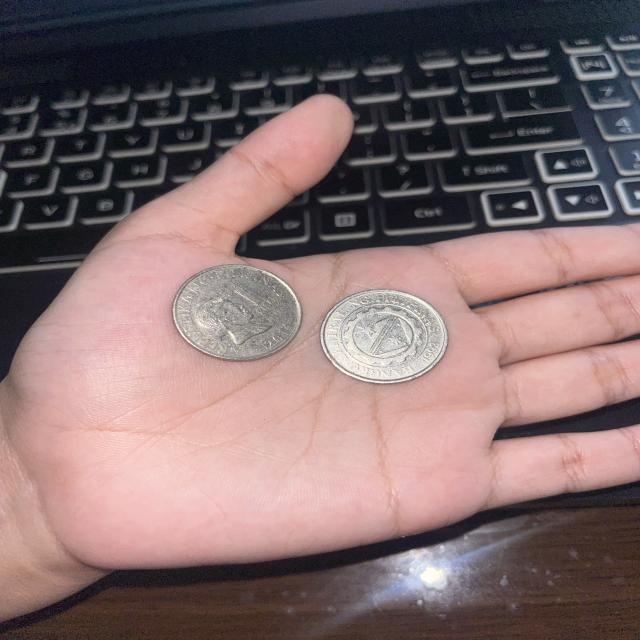1_Old_Back: (329, 296, 434, 375)
1_Old_Front: (181, 271, 285, 346)
